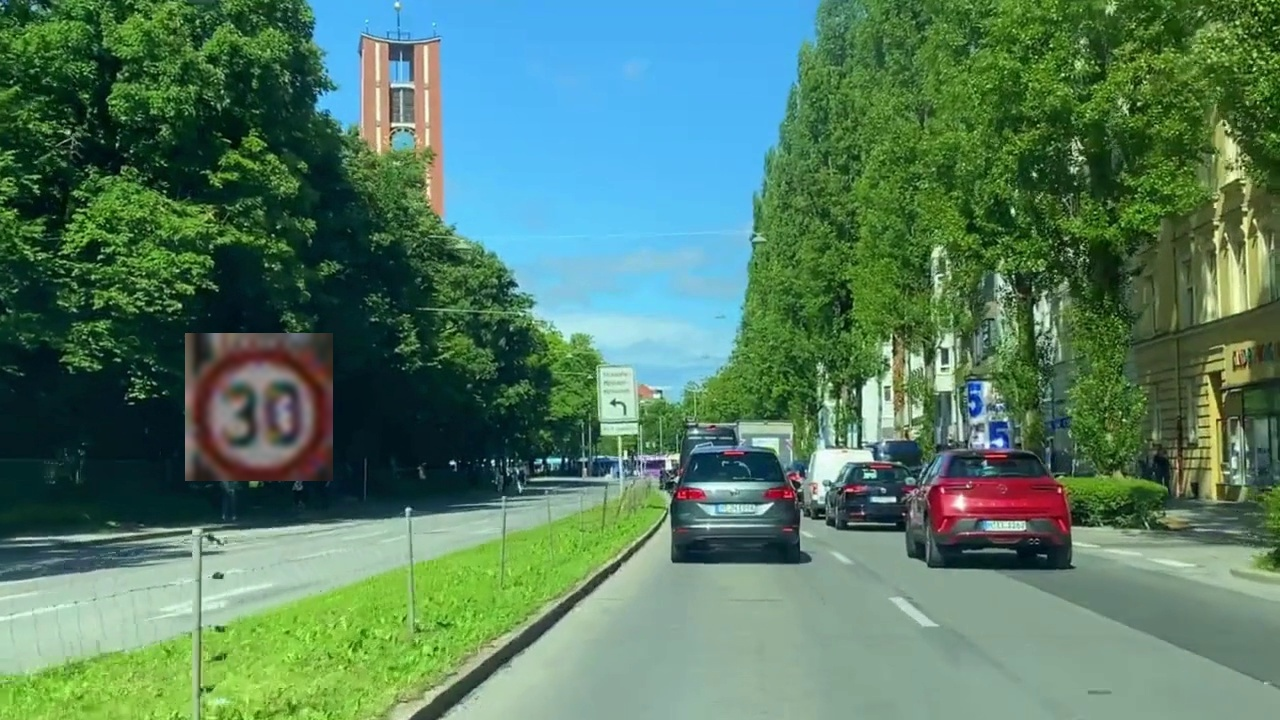Speed 30: (185, 333, 333, 481)
